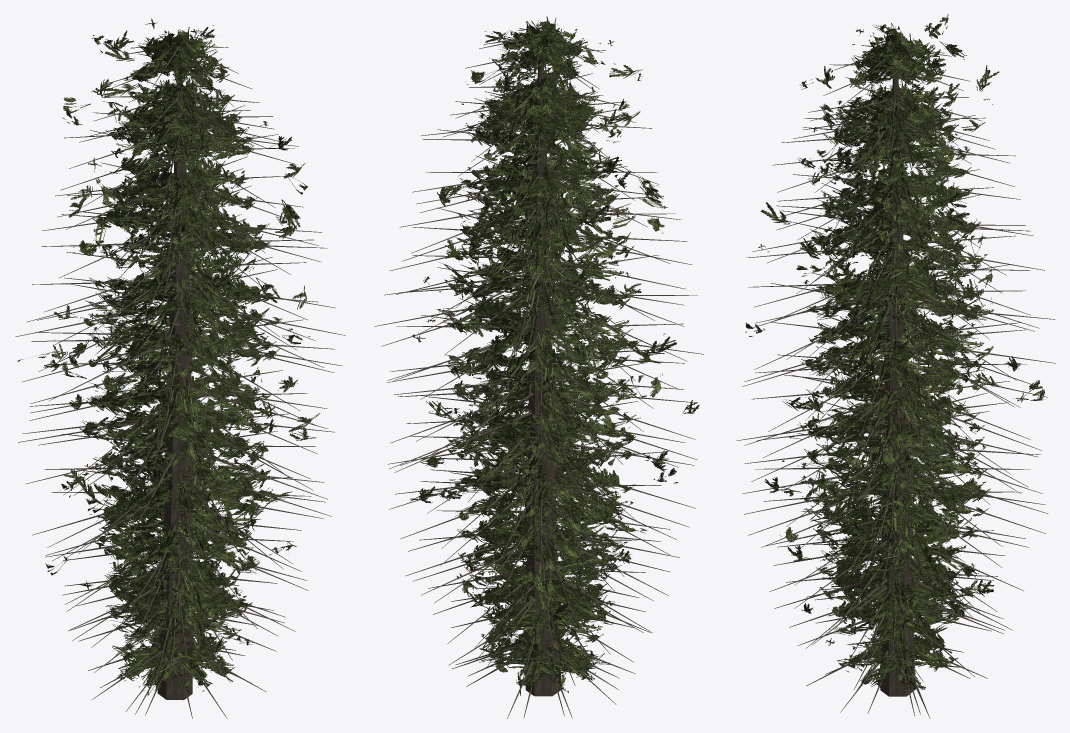
File: conifer_v5_lod1.glb
3 renders of one model, left to right at view 1: azimuth 30°, elevation 25°; view 2: azimuth 150°, elevation 25°; view 3: azimuth 270°, elevation 25°, orthographic.
Parts seen in each view (by area): view 1: conifer_v5_lod1; view 2: conifer_v5_lod1; view 3: conifer_v5_lod1.
Part boxes in pixels (bbox=[...]): conifer_v5_lod1: bbox=[15, 18, 345, 718]; conifer_v5_lod1: bbox=[374, 16, 703, 718]; conifer_v5_lod1: bbox=[736, 14, 1055, 718].
Size of the model in its own units: 8.3 by 18.9 by 8.24.
1 material, 1 textured.
